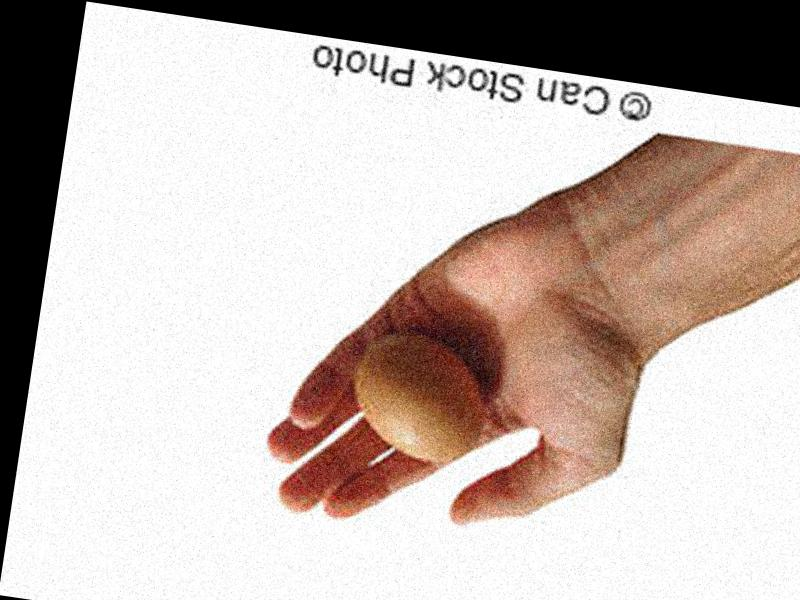Eggs: (343, 327, 489, 462)
